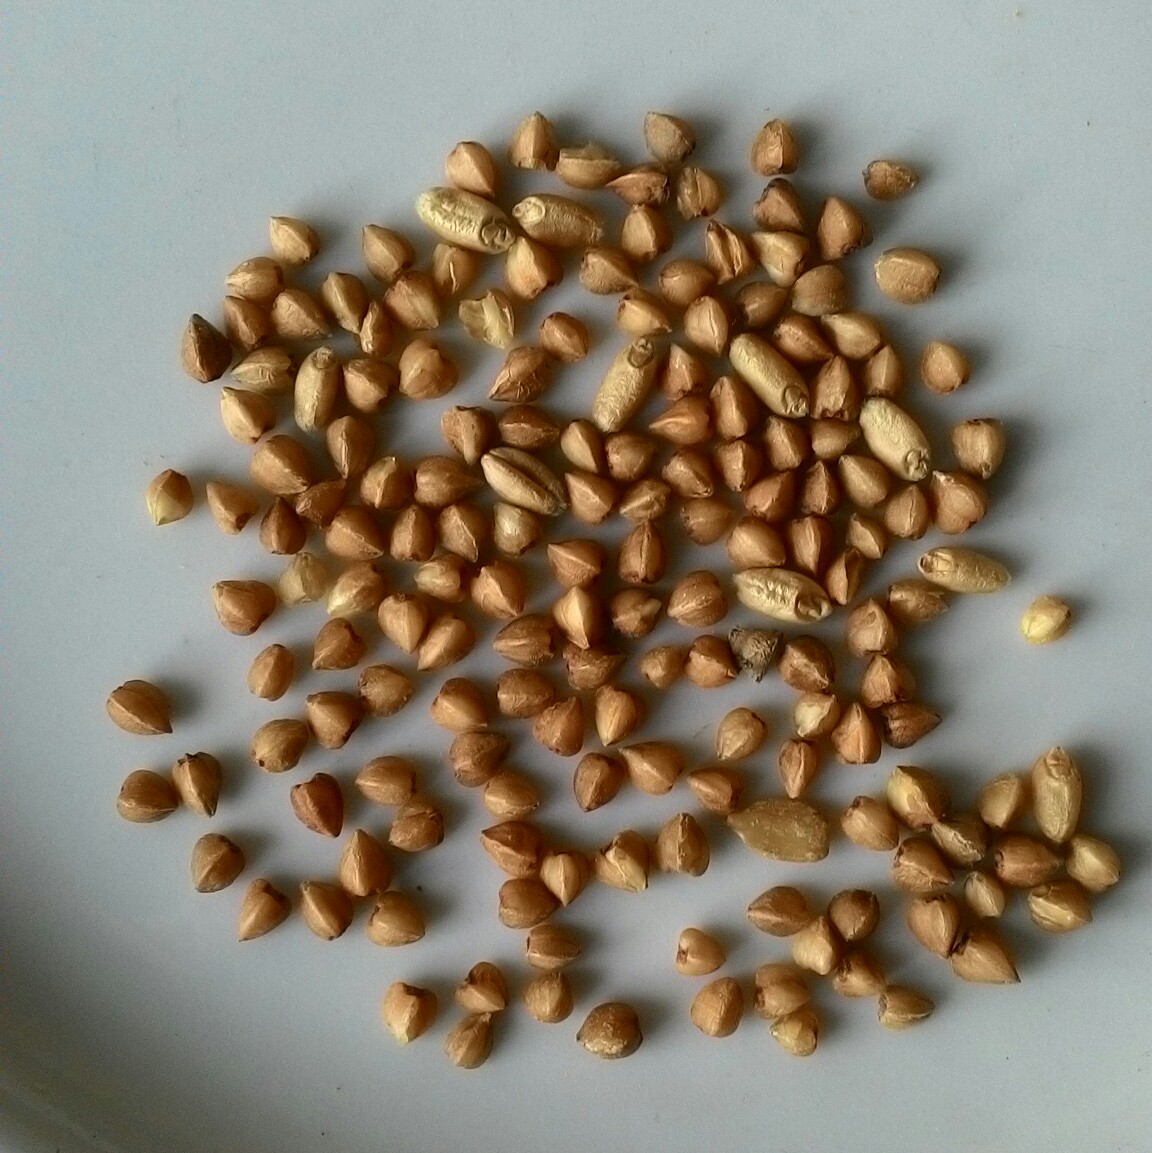semka: (713, 787, 848, 872)
wheat: (581, 321, 677, 436), (724, 323, 820, 428), (411, 175, 523, 263), (499, 181, 614, 258), (859, 389, 944, 488), (482, 431, 570, 524), (284, 332, 350, 444), (727, 560, 837, 628), (911, 538, 1024, 601), (1032, 741, 1090, 853)
